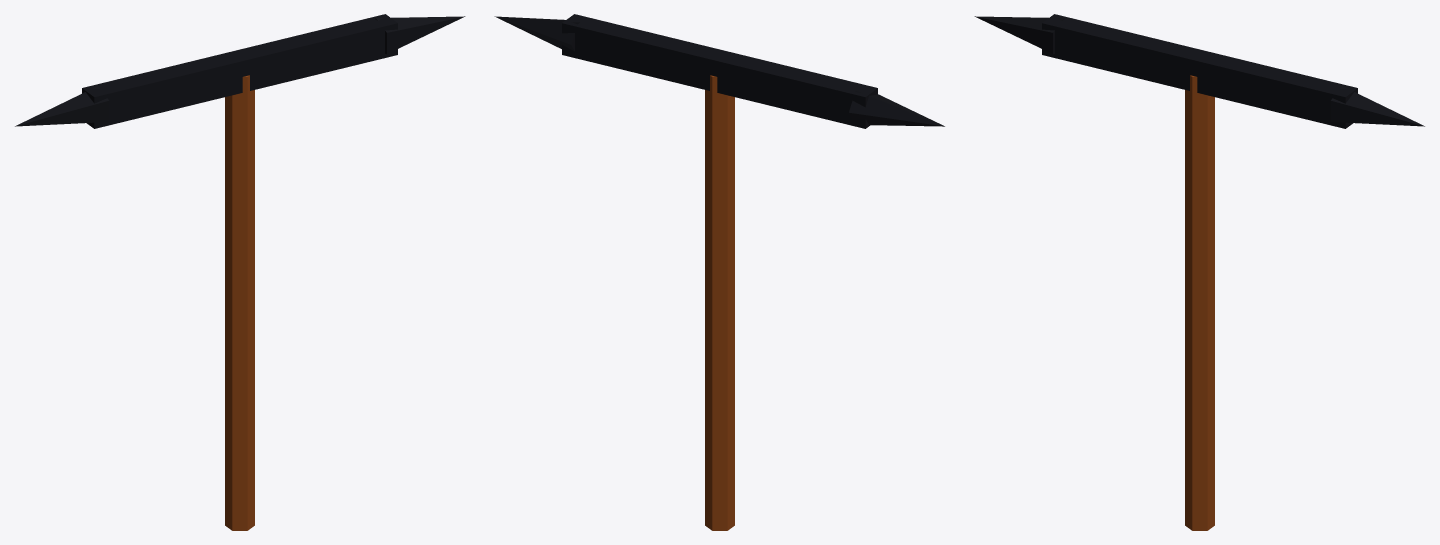
Rendered from pickaxe.obj.
3 renders of one model, left to right at view 1: azimuth 30°, elevation 25°; view 2: azimuth 150°, elevation 25°; view 3: azimuth 330°, elevation 25°, orthographic.
Visible parts, largest first — view 1: pickaxe; view 2: pickaxe; view 3: pickaxe.
Boxes of the visible parts, left/top/right/bottom form: pickaxe: left=15, top=14, right=465, bottom=530; pickaxe: left=494, top=14, right=944, bottom=530; pickaxe: left=974, top=14, right=1424, bottom=530.
Size of the model in its own units: 1.04 by 1.04 by 0.0724.
